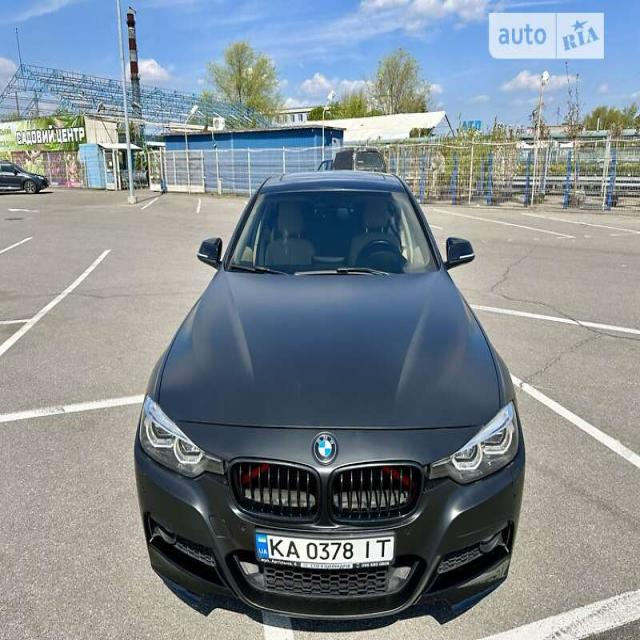plate: (256, 525, 404, 576)
